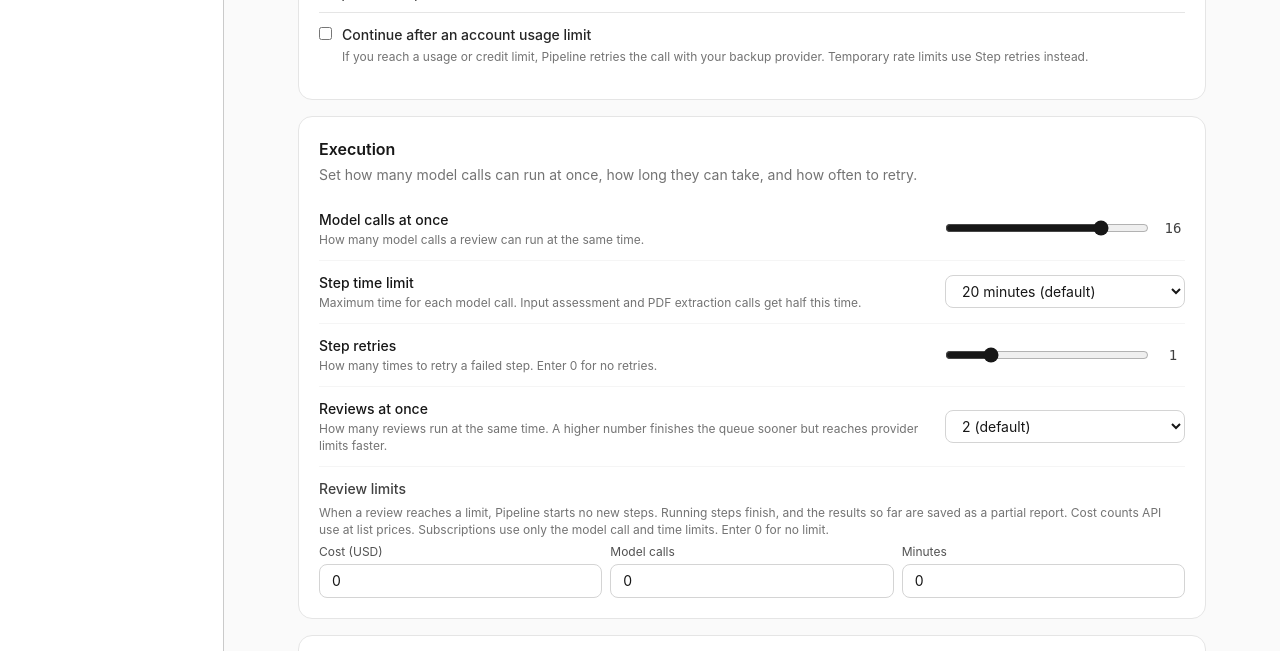
Scenario: SettingsPage autosave › shows an inline autosave error and retries the current settings
(page scrolled)
Select "30 minutes" in the dropdown named "Step time limit" at point(1065, 292), box [945, 275, 1185, 308]
(page scrolled)
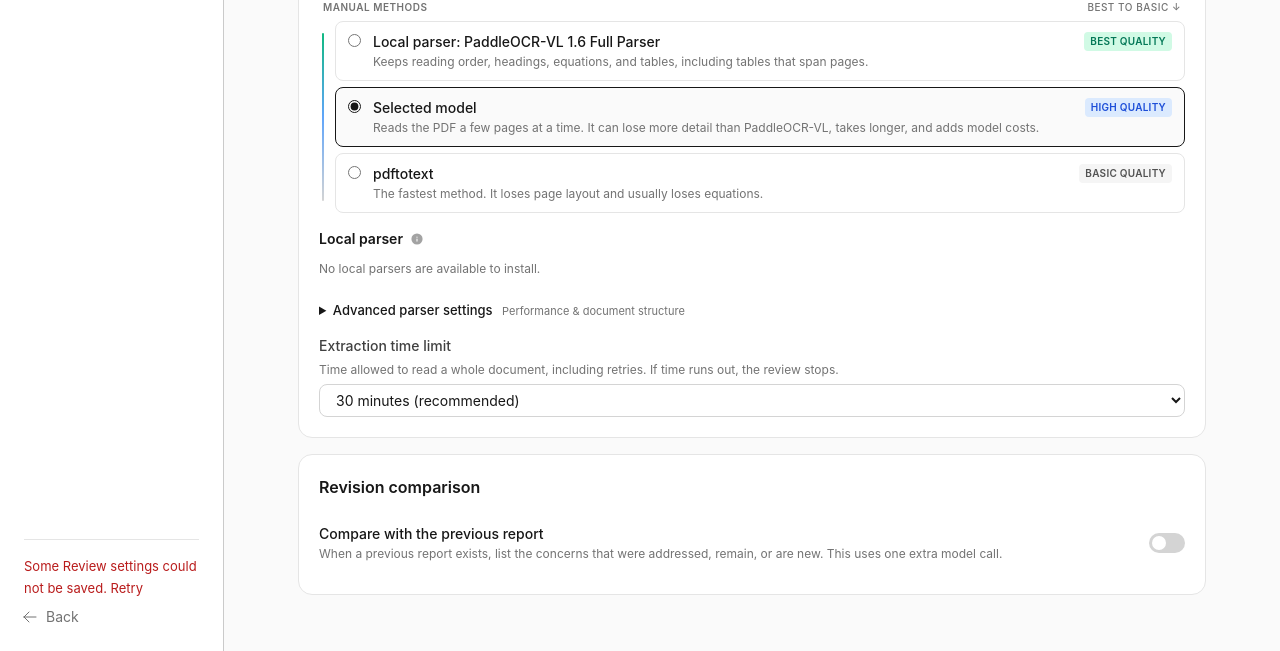
Click the button "Retry" at point(127, 588), box [110, 578, 143, 599]
(page scrolled)
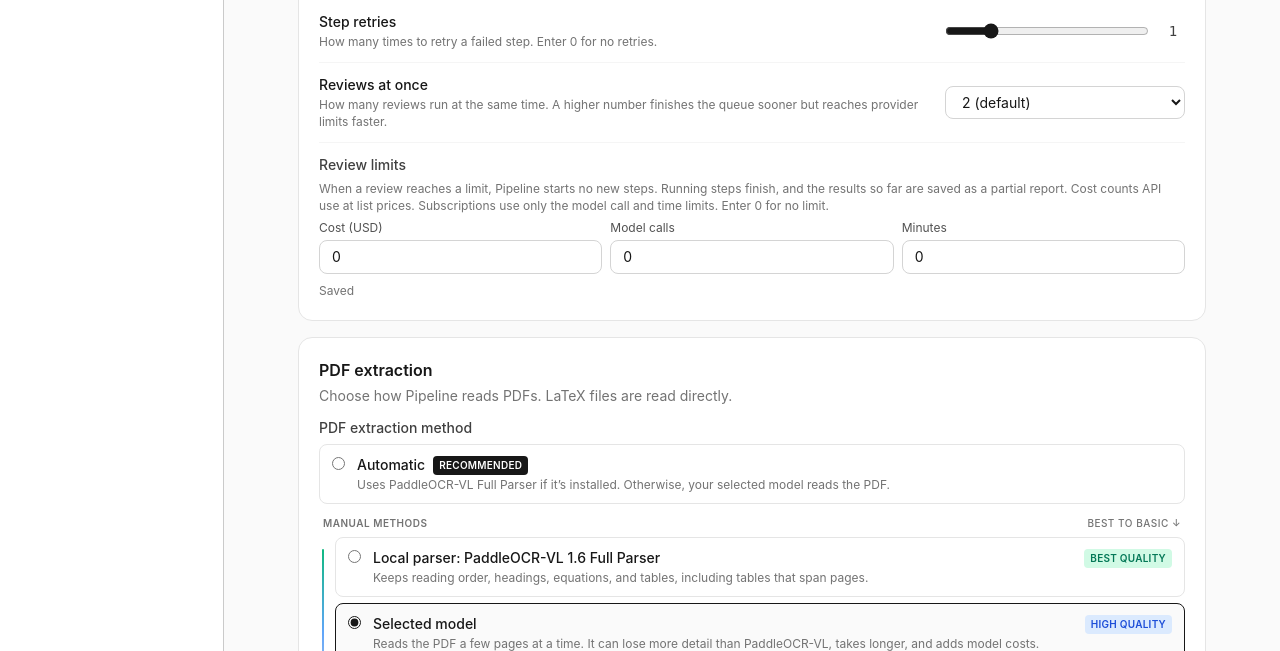
Result: the text "Saved" is shown at [319, 283, 354, 298]
